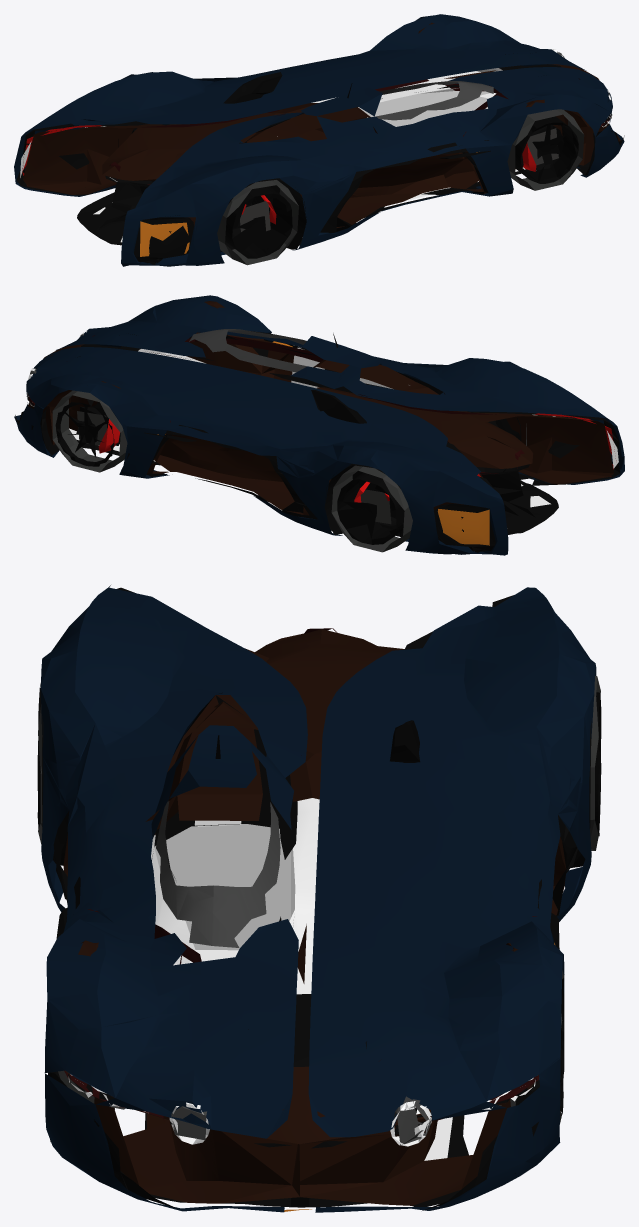
The model's file is ag_aurelia_race.glb.
3 views of the same model, one above another, from view 1: azimuth 30°, elevation 25°; view 2: azimuth 150°, elevation 25°; view 3: azimuth 270°, elevation 25° (orthographic). The views are drawn at different scales.
Parts seen in each view (by area): view 1: 12_T.001, 11_T.001, 9.001, 14_T.001, Combined3DWheel_3DWheel_front_L Instance1_Src4_0.001, Combined3DWheel_3DWheel_front_L Instance1_Src4_003.001, g_Tyre_LR001.001, 8.001, g_Tyre_LF001.001, 43_T.001, 10_T.001, 15_T.001 (+3 smaller); view 2: 12_T.001, 11_T.001, 9.001, Combined3DWheel_3DWheel_front_L Instance1_Src4_004.001, 8.001, g_Tyre_LF002.001, g_Tyre_LR002.001, 43_T.001, 10_T.001, wheel_FL_part, 15_T.001, 14_T.001 (+3 smaller); view 3: 12_T.001, 11_T.001, 14_T.001, 43_T.001, 9.001, 8.001, 99.001, 15_T.001, g_Tyre_LR002.001.
Boxes of the visible parts, x1=… form: 12_T.001: x1=14, y1=14, x2=624, y2=266; 11_T.001: x1=23, y1=22, x2=620, y2=227; 9.001: x1=16, y1=64, x2=624, y2=263; 14_T.001: x1=20, y1=68, x2=525, y2=242; Combined3DWheel_3DWheel_front_L Instance1_Src4_0.001: x1=225, y1=186, x2=292, y2=258; Combined3DWheel_3DWheel_front_L Instance1_Src4_003.001: x1=515, y1=116, x2=578, y2=183; g_Tyre_LR001.001: x1=217, y1=180, x2=298, y2=265; 8.001: x1=59, y1=53, x2=610, y2=264; g_Tyre_LF001.001: x1=507, y1=109, x2=584, y2=190; 43_T.001: x1=376, y1=51, x2=612, y2=120; 10_T.001: x1=140, y1=152, x2=477, y2=256; 15_T.001: x1=109, y1=78, x2=611, y2=220; 12_T.001: x1=14, y1=295, x2=624, y2=555; 11_T.001: x1=28, y1=301, x2=613, y2=515; 9.001: x1=15, y1=333, x2=620, y2=551; Combined3DWheel_3DWheel_front_L Instance1_Src4_004.001: x1=337, y1=472, x2=404, y2=544; 8.001: x1=28, y1=331, x2=579, y2=552; g_Tyre_LF002.001: x1=52, y1=390, x2=127, y2=472; g_Tyre_LR002.001: x1=331, y1=465, x2=412, y2=552; 43_T.001: x1=27, y1=329, x2=306, y2=399; 10_T.001: x1=157, y1=341, x2=489, y2=545; wheel_FL_part: x1=55, y1=402, x2=114, y2=466; 15_T.001: x1=27, y1=335, x2=524, y2=474; 14_T.001: x1=69, y1=349, x2=618, y2=507; 12_T.001: x1=40, y1=585, x2=596, y2=1212; 11_T.001: x1=63, y1=629, x2=566, y2=1205; 14_T.001: x1=70, y1=798, x2=533, y2=1160; 43_T.001: x1=109, y1=801, x2=501, y2=1145; 9.001: x1=42, y1=587, x2=591, y2=1210; 8.001: x1=56, y1=692, x2=559, y2=1207; 99.001: x1=68, y1=1076, x2=535, y2=1146; 15_T.001: x1=64, y1=628, x2=538, y2=1123; g_Tyre_LR002.001: x1=590, y1=676, x2=600, y2=850.
Bounding box in the file's own units: 4.64 × 0.985 × 2.15.
